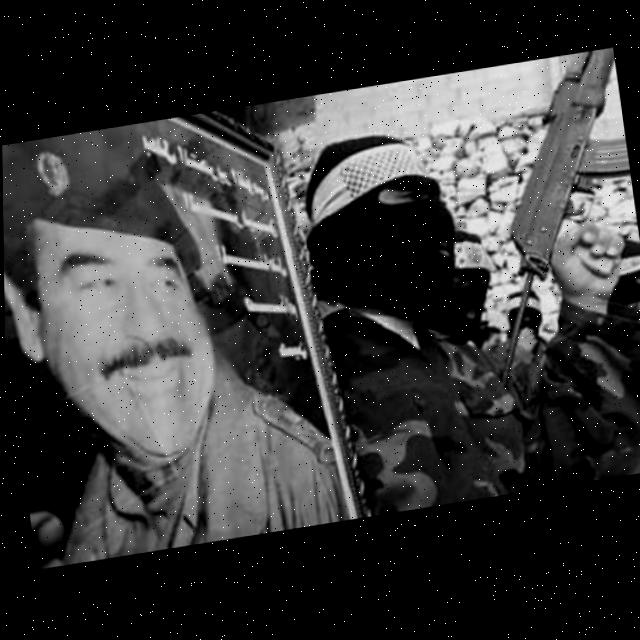face: (4, 215, 244, 475)
